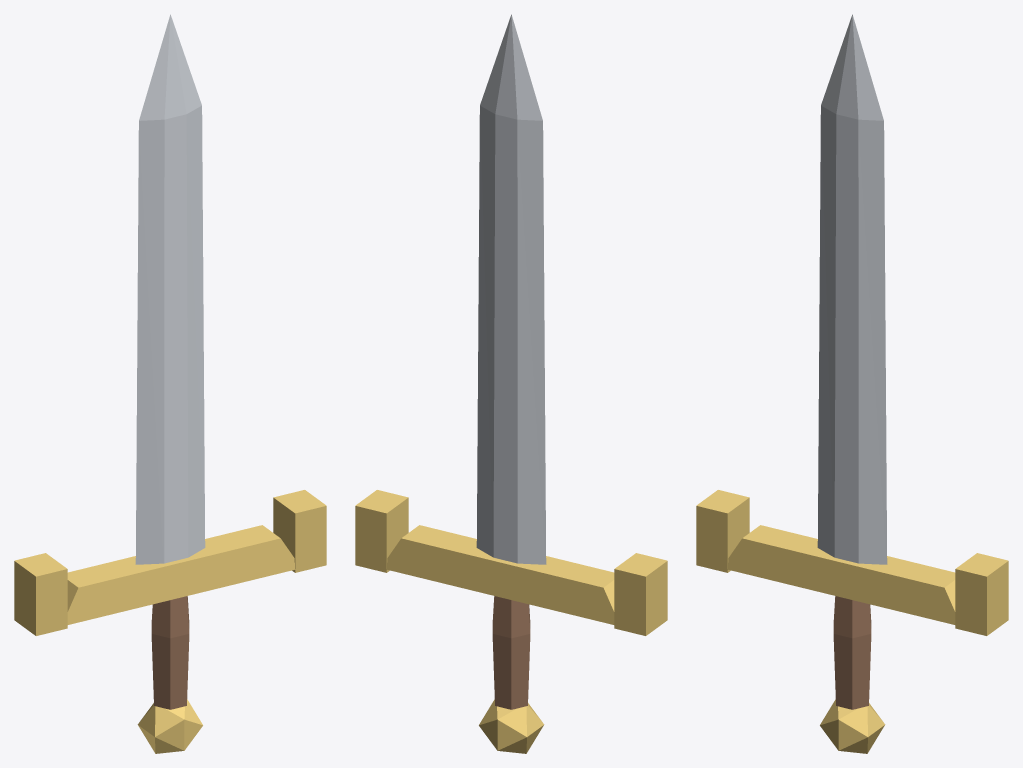
Rendered from sword.glb.
3 renders of one model, left to right at view 1: azimuth 30°, elevation 25°; view 2: azimuth 150°, elevation 25°; view 3: azimuth 330°, elevation 25°, orthographic.
Visible parts, largest first — view 1: Blade, Guard, Grip; view 2: Blade, Guard, Grip; view 3: Blade, Guard, Grip.
Part boxes in pixels (x1,y1,x2,y2): Blade: (135, 14, 205, 564); Guard: (14, 490, 326, 753); Grip: (151, 596, 189, 709); Blade: (476, 14, 546, 564); Guard: (355, 490, 667, 753); Grip: (492, 596, 530, 709); Blade: (817, 14, 887, 564); Guard: (696, 490, 1008, 753); Grip: (833, 596, 871, 709).
Size of the model in its own units: 0.46 by 1.11 by 0.0766.
